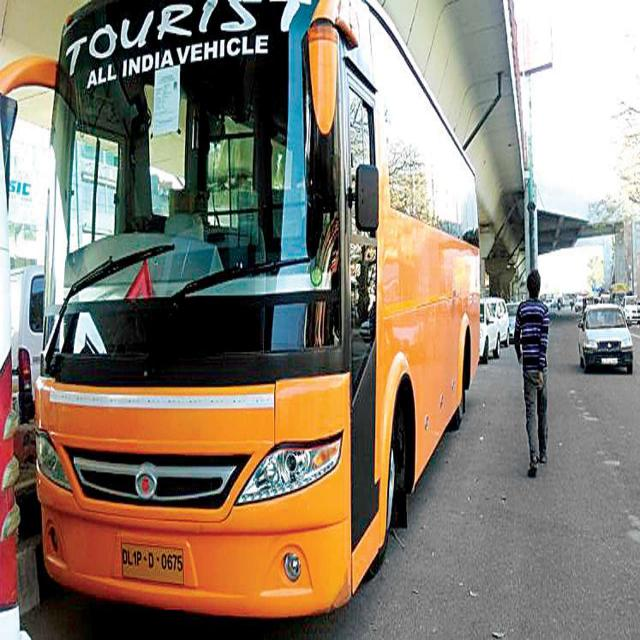BUS: (2, 0, 504, 640)
